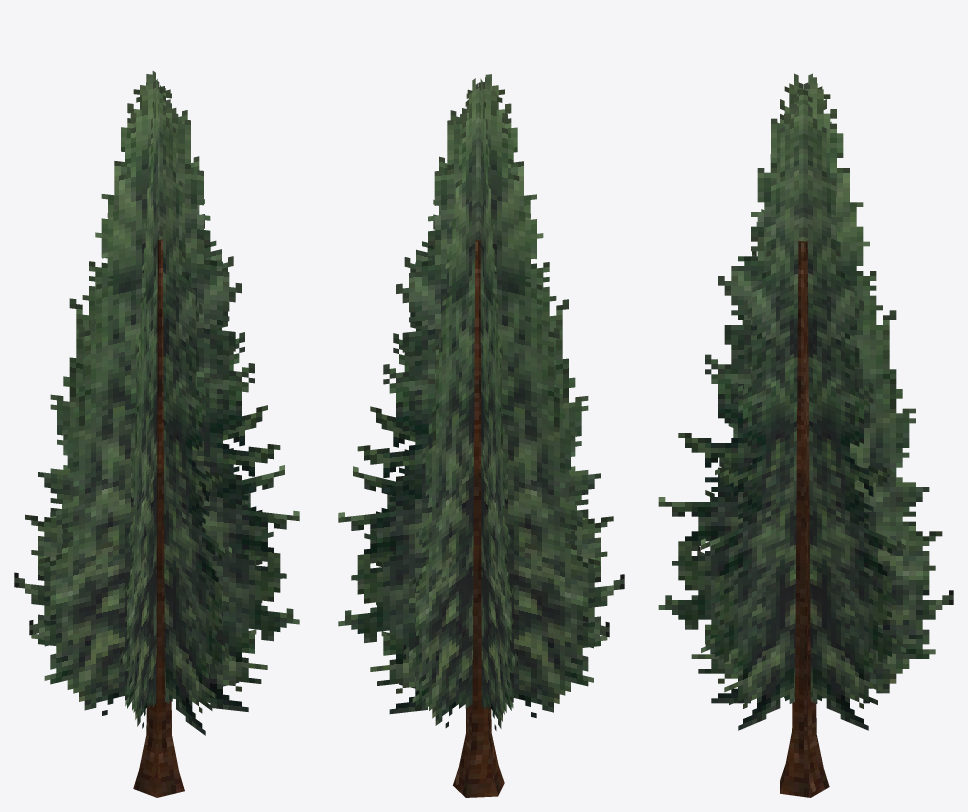
The model's file is pine_tree_lowpoly.glb.
The picture shows the model from 3 angles, left to right: view 1: azimuth 30°, elevation 25°; view 2: azimuth 150°, elevation 25°; view 3: azimuth 270°, elevation 25°; orthographic projection.
Visible parts, largest first — view 1: Plane.014; view 2: Plane.014; view 3: Plane.014.
Boxes of the visible parts, bbox=[...] form: Plane.014: bbox=[14, 71, 299, 797]; Plane.014: bbox=[338, 74, 624, 797]; Plane.014: bbox=[658, 73, 953, 797].
Size of the model in its own units: 2 by 5.21 by 2.
1 material, 1 textured.
